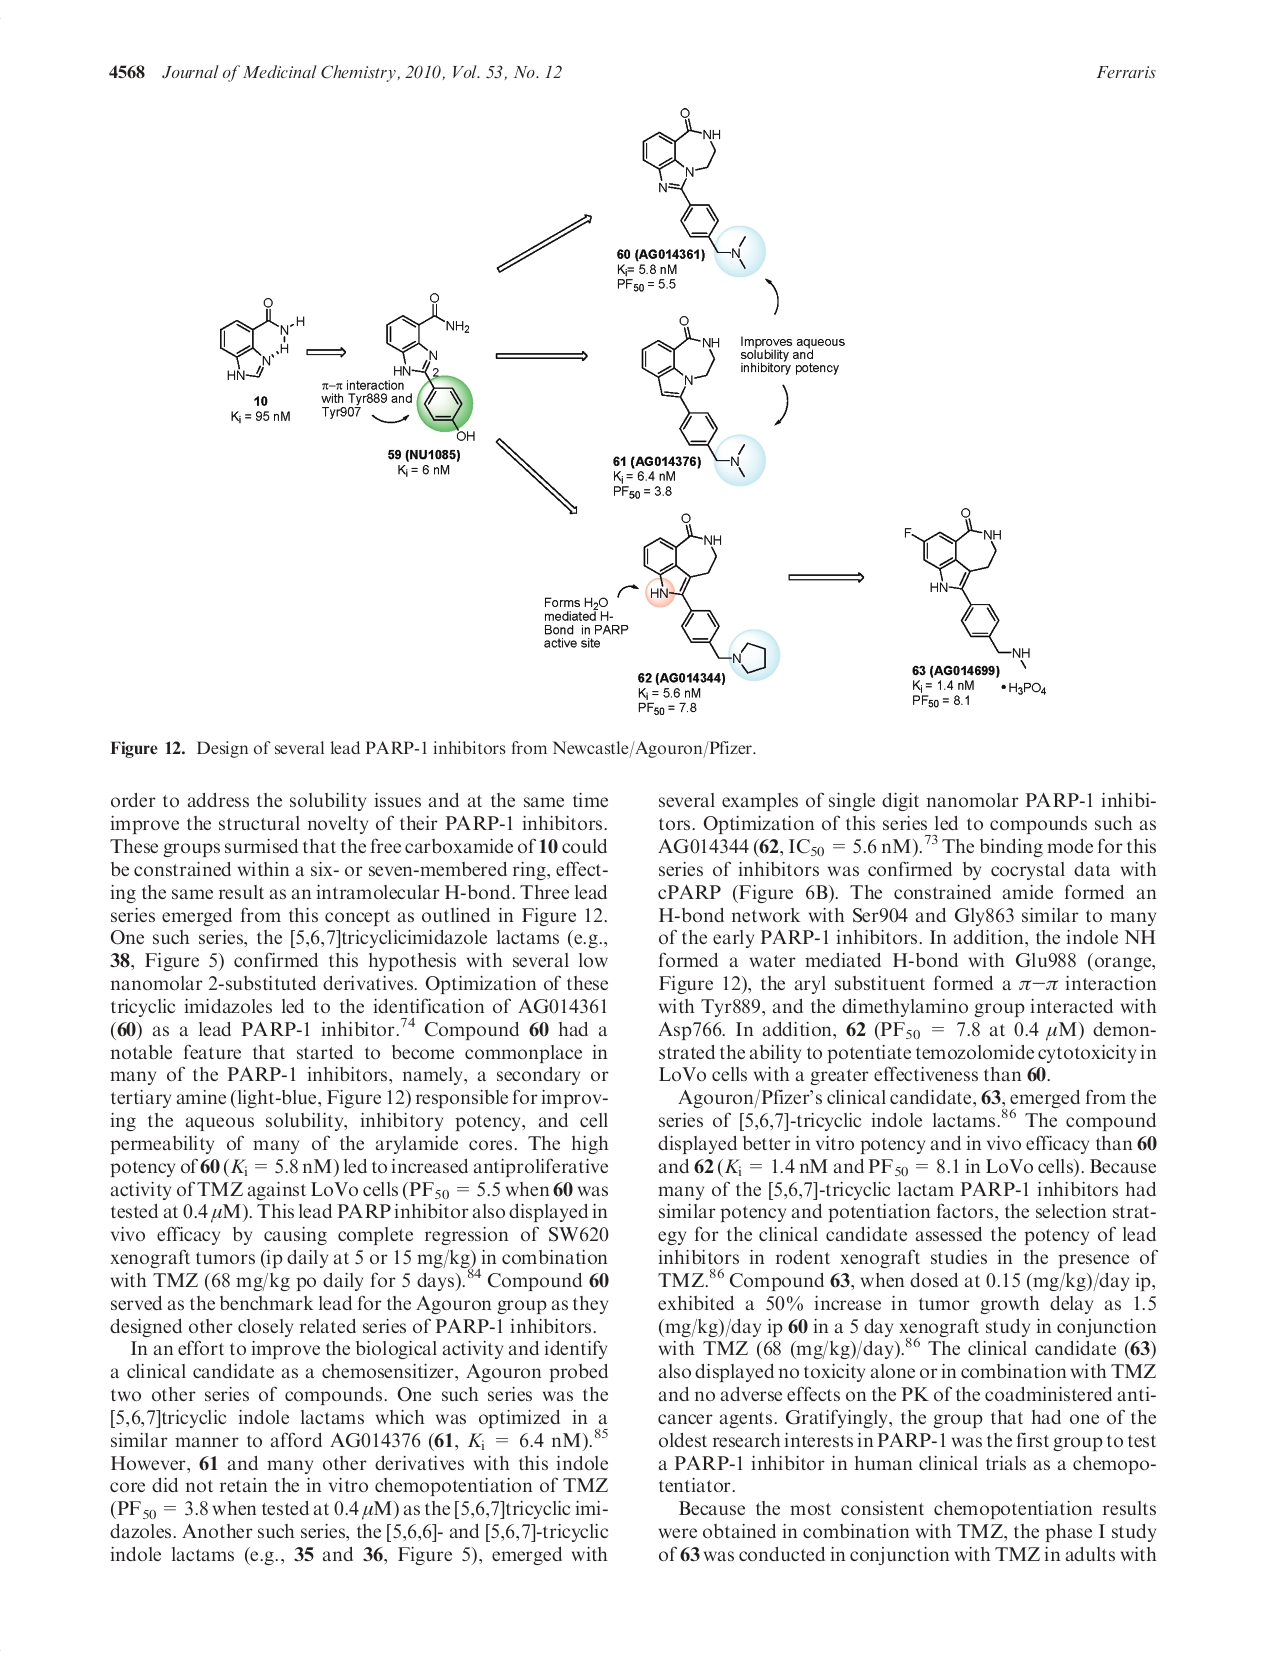exist_molecular: (637, 509, 774, 677), (899, 503, 1035, 669), (641, 104, 753, 273), (641, 313, 747, 479), (386, 289, 484, 444), (214, 289, 309, 382)
